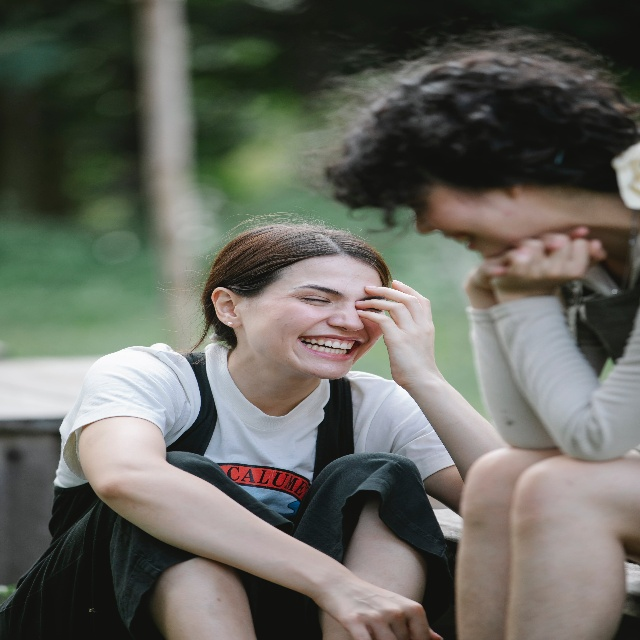Sin_guantes: (317, 565, 443, 640), (354, 278, 436, 389), (489, 238, 589, 293)
